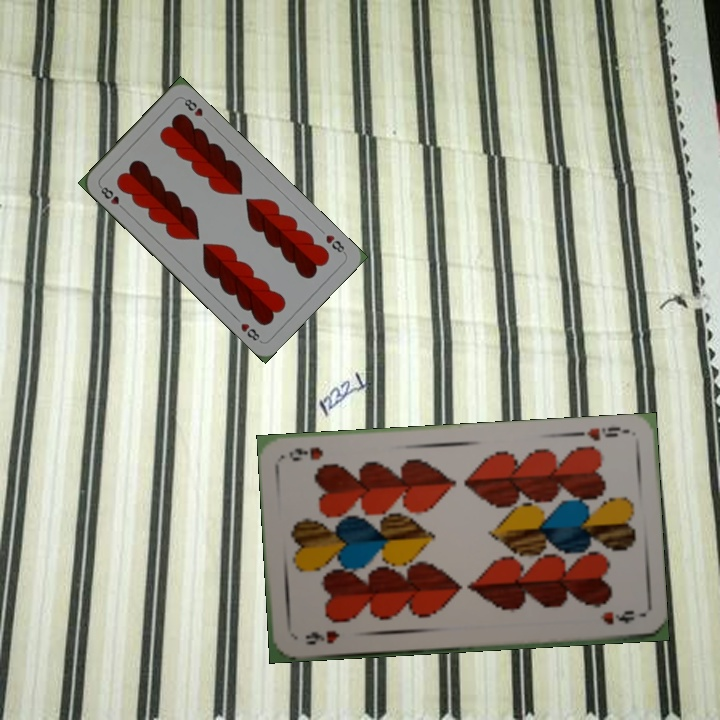H8: (96, 181, 128, 213), (321, 231, 348, 257)
H9: (572, 422, 623, 444), (301, 626, 342, 648)
